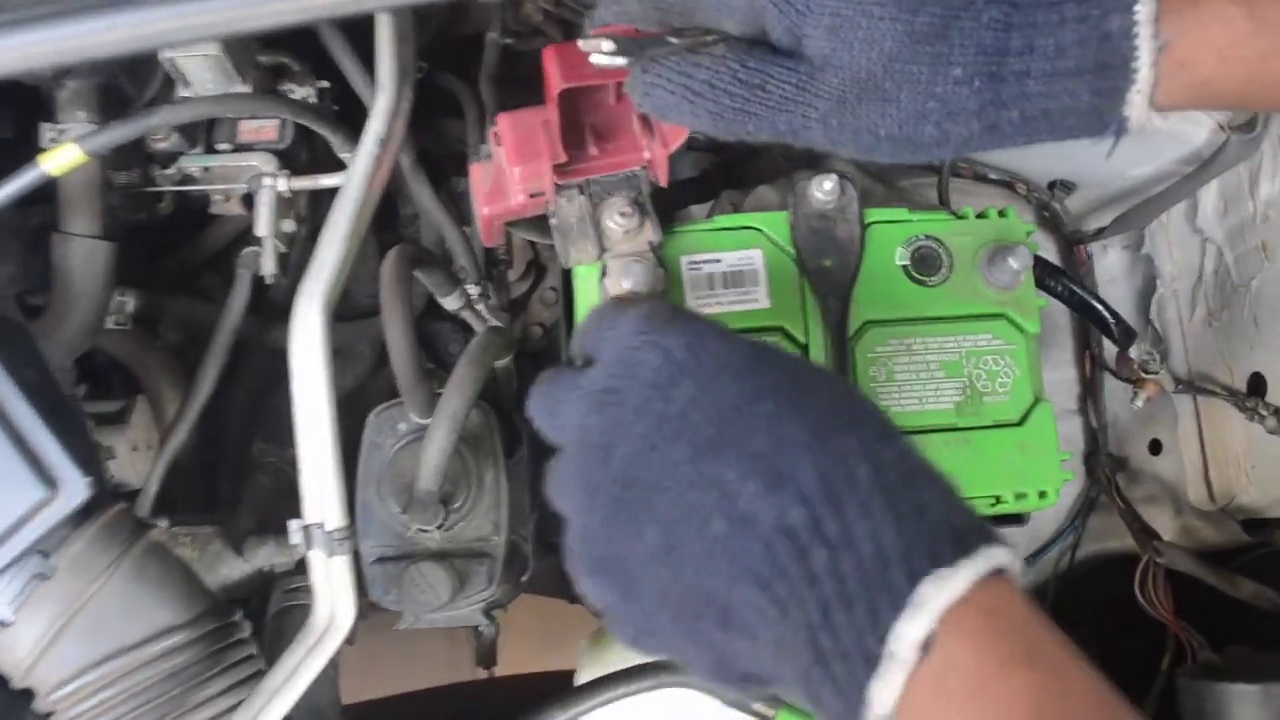battery: (547, 196, 1036, 510)
neg_disconnected: (973, 208, 1047, 306)
pos_touched: (492, 1, 783, 347)
